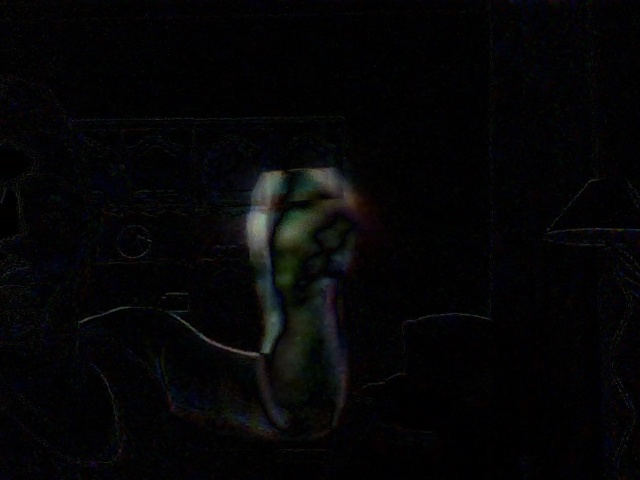hand_fi: (243, 155, 365, 289)
